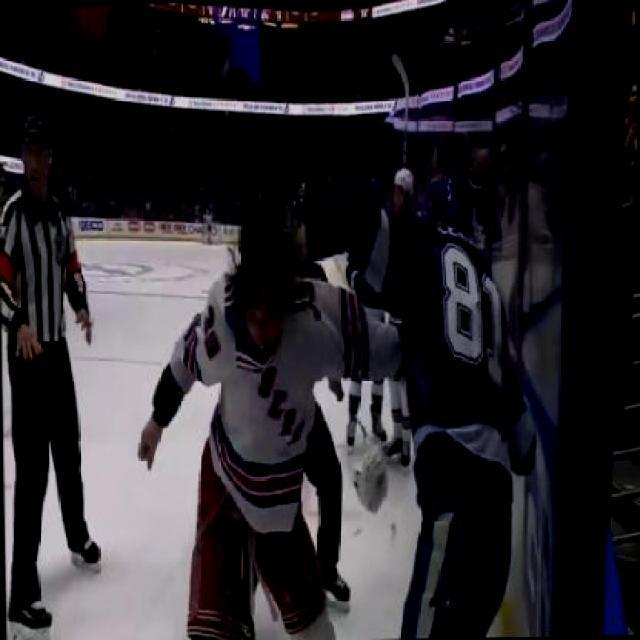fight: (260, 176, 546, 638), (132, 200, 422, 638)
non-fight: (0, 106, 102, 639)
